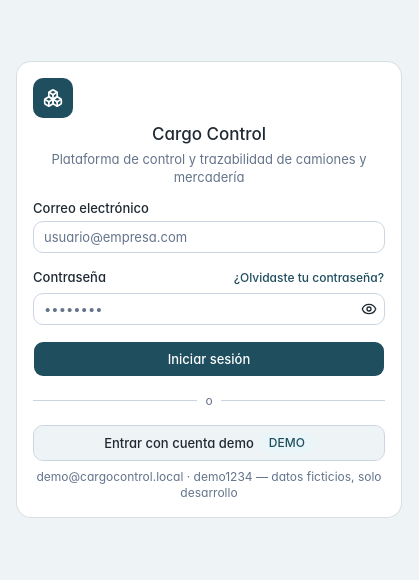
Test: LoginPage › surfaces a sign-in failure through the destructive alert
Type "demo@cargocontrol.local" into the field labelled "Correo electrónico" at (209, 236), box x1=33 y1=220 x2=385 y2=252
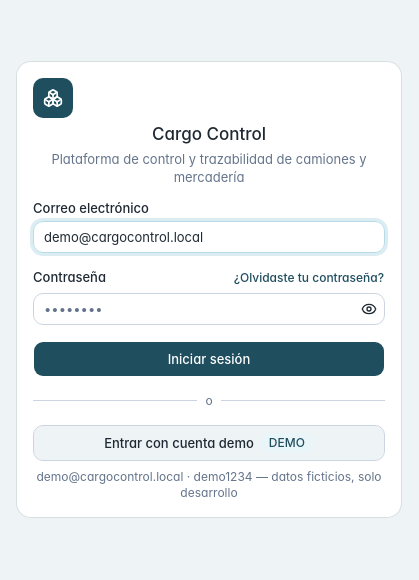
Type "incorrecta" into the password field labelled "Contraseña" at (209, 308), box x1=33 y1=292 x2=385 y2=324
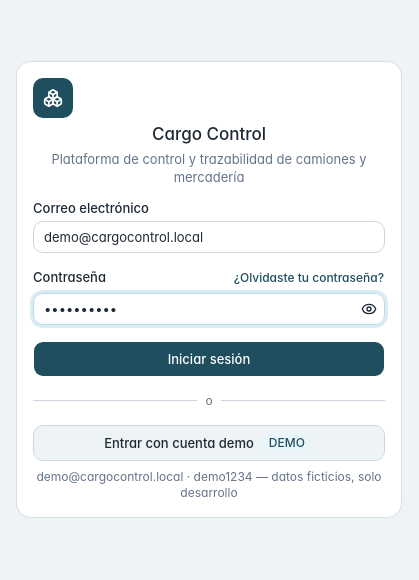
Click the button "Iniciar sesión" at (209, 358), box x1=33 y1=340 x2=385 y2=376
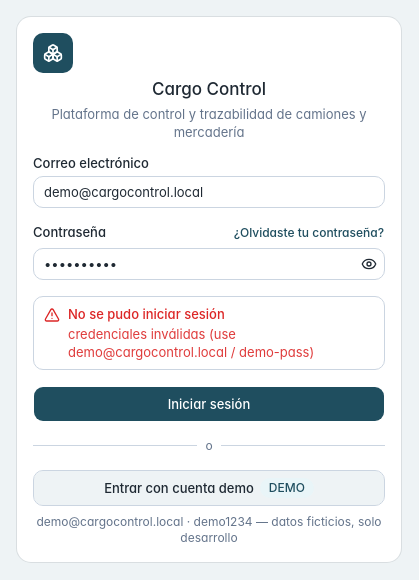
expect the text "credenciales inválidas" is shown: met, box x1=68 y1=326 x2=314 y2=360
